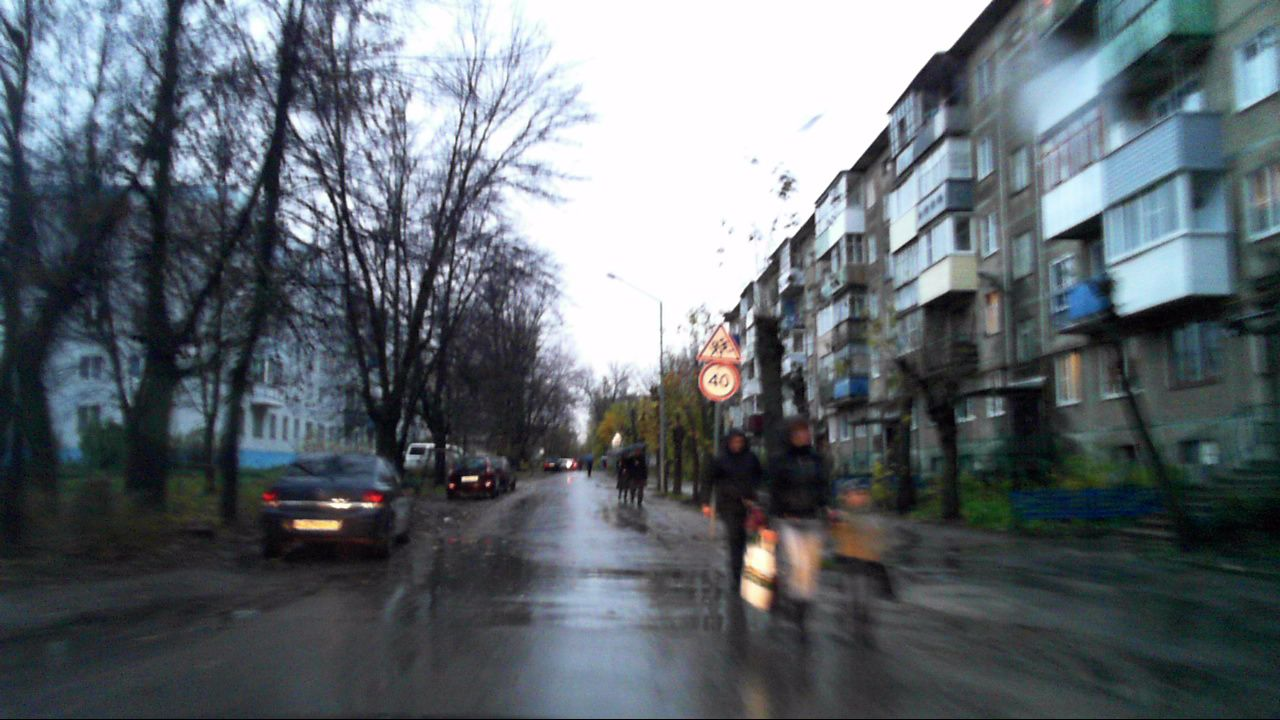speed_warning_40: (697, 360, 740, 402)
